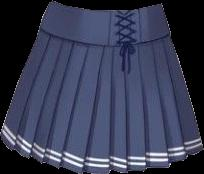Hemline: (0, 134, 203, 173)
Waistline: (39, 27, 170, 47), (52, 0, 161, 11)
